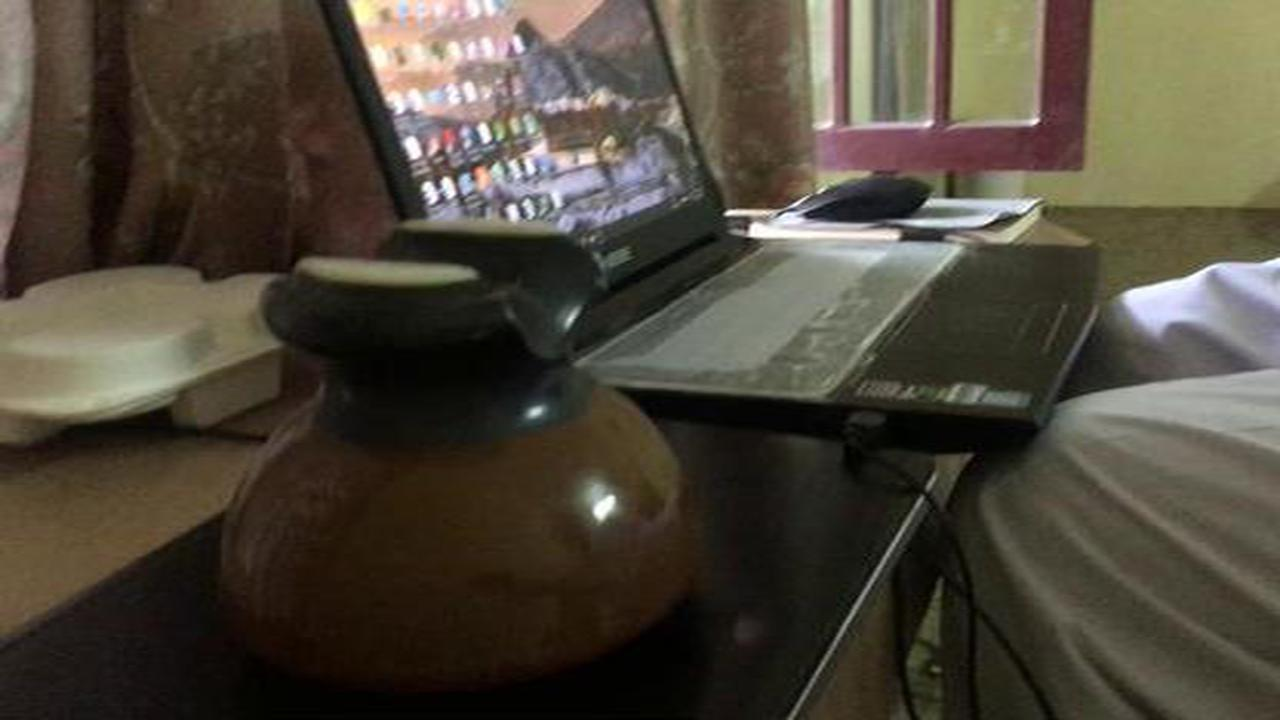insulator_pin: (188, 206, 727, 693)
